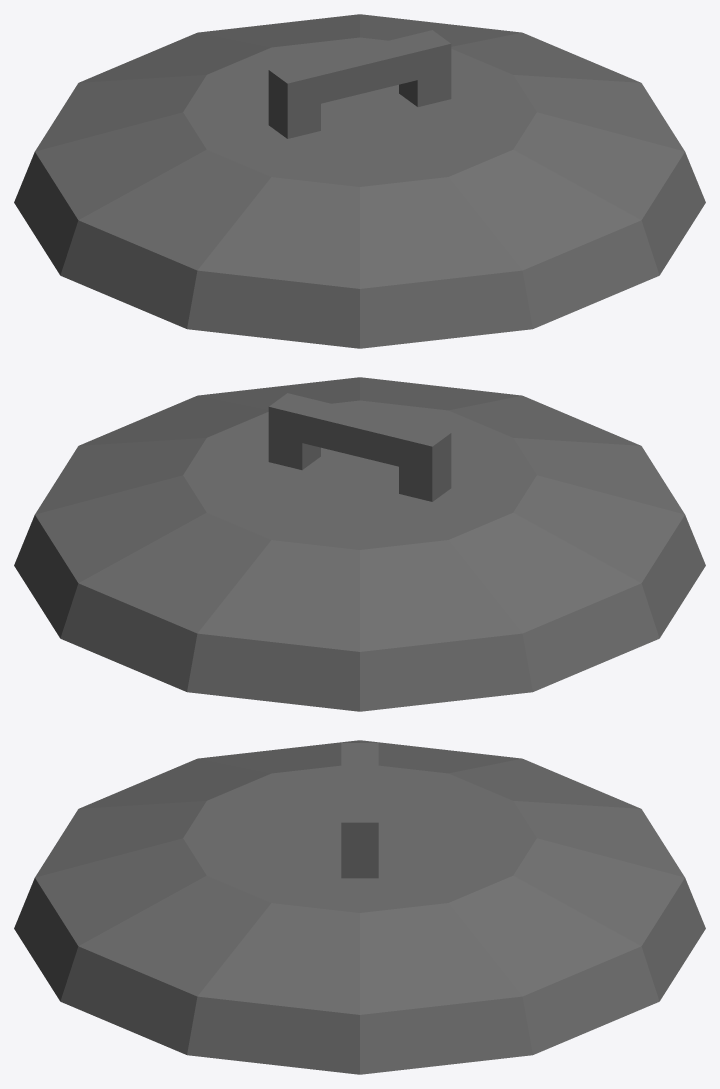
Rendered from Trash_01_2.fbx.
3 views of the same model, one above another, from view 1: azimuth 30°, elevation 25°; view 2: azimuth 150°, elevation 25°; view 3: azimuth 270°, elevation 25° (orthographic).
Visible parts, largest first — view 1: Trash_01_2; view 2: Trash_01_2; view 3: Trash_01_2.
Boxes of the visible parts, x1,y1,x2,y2 form: Trash_01_2: [14, 14, 705, 348]; Trash_01_2: [14, 377, 705, 711]; Trash_01_2: [14, 740, 705, 1074].
Size of the model in its own units: 64.52 by 14.99 by 64.52.
